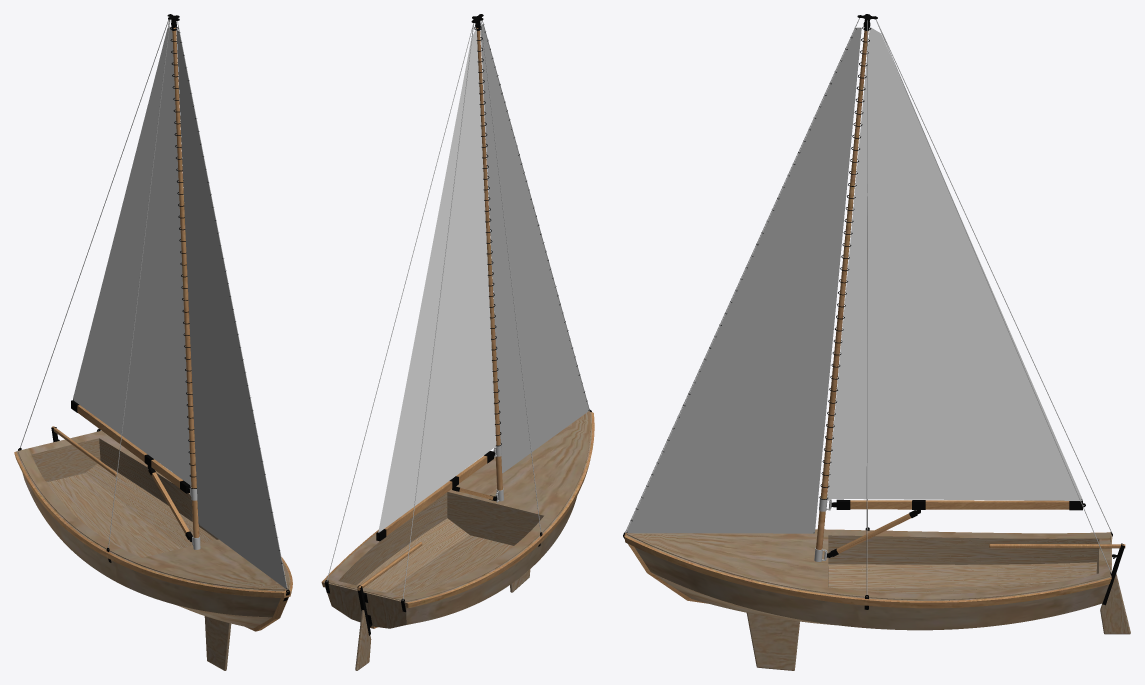
File: sailboat.glb
3 renders of one model, left to right at view 1: azimuth 30°, elevation 25°; view 2: azimuth 150°, elevation 25°; view 3: azimuth 270°, elevation 25°, orthographic. The views are drawn at different scales.
Visible parts, largest first — view 1: Object_131, Object_249, Object_233, Object_7, Object_136; view 2: Object_131, Object_249, Object_233, Object_7, Object_136; view 3: Object_131, Object_233, Object_249, Object_7, Object_136.
Boxes of the visible parts, left/top/right/bottom form: Object_131: left=73, top=26, right=191, bottom=485; Object_249: left=16, top=430, right=290, bottom=670; Object_233: left=20, top=19, right=287, bottom=589; Object_7: left=14, top=27, right=292, bottom=631; Object_136: left=18, top=14, right=289, bottom=601; Object_131: left=378, top=29, right=496, bottom=532; Object_249: left=323, top=411, right=591, bottom=670; Object_233: left=326, top=20, right=589, bottom=600; Object_7: left=321, top=28, right=594, bottom=628; Object_136: left=325, top=14, right=591, bottom=635; Object_131: left=827, top=27, right=1082, bottom=500; Object_233: left=625, top=18, right=1112, bottom=596; Object_249: left=626, top=529, right=1130, bottom=670; Object_7: left=624, top=30, right=1125, bottom=608; Object_136: left=623, top=14, right=1124, bottom=609.
Bounding box in the file's own units: 1.24 × 5.32 × 3.73.
Materials: 5 (2 with a texture image).
